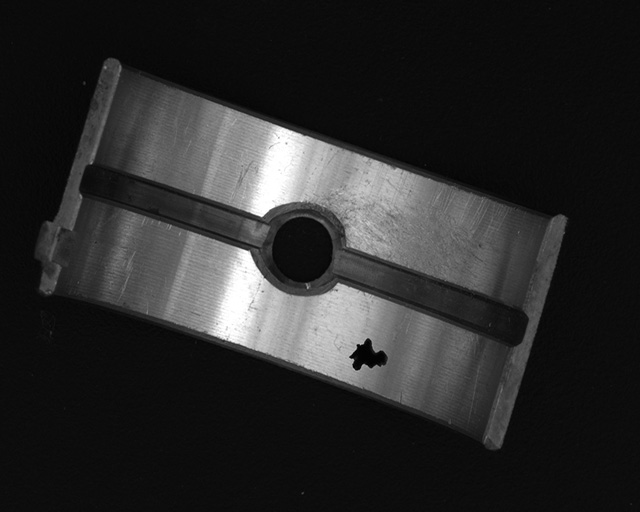blot: (347, 336, 389, 372)
gap: (336, 250, 522, 345), (82, 163, 269, 248)
hole: (259, 203, 344, 299)
nick: (115, 252, 137, 304)
scratch: (307, 138, 508, 288)
